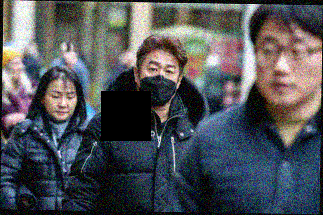with_mask: (138, 58, 182, 107)
without_mask: (253, 31, 322, 109), (44, 87, 79, 120)
